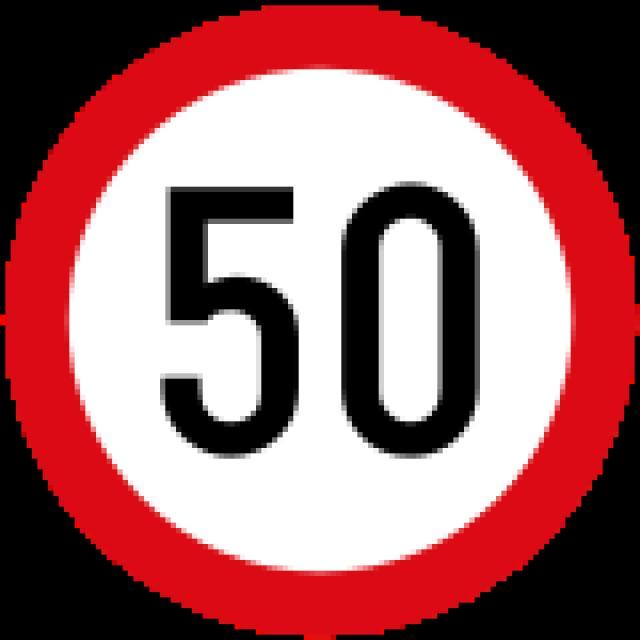speed limit-50: (5, 0, 640, 640)
